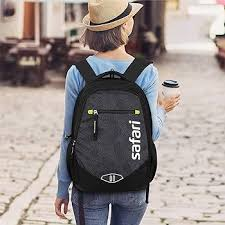backpack: (65, 57, 157, 193)
